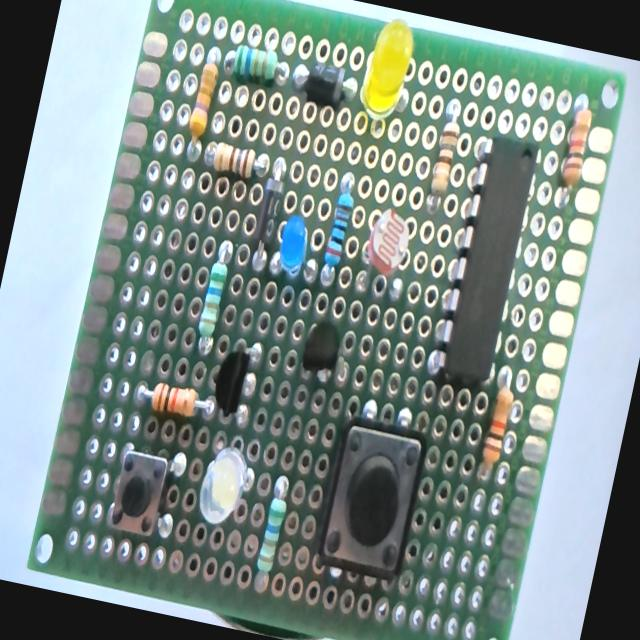IC: (436, 138, 538, 394)
cds: (356, 203, 416, 298)
diode: (249, 159, 289, 263), (291, 59, 363, 112)
led: (348, 14, 421, 128), (193, 442, 255, 530), (267, 197, 321, 283)
resistor: (476, 366, 518, 476), (424, 98, 464, 207), (194, 241, 234, 349), (253, 472, 292, 578), (320, 170, 360, 272), (137, 378, 215, 423), (183, 60, 220, 154), (222, 42, 292, 89), (558, 106, 594, 187), (208, 142, 271, 185)
switch: (313, 414, 430, 580), (107, 449, 169, 538)
transistor: (208, 344, 252, 420), (298, 318, 344, 380)
